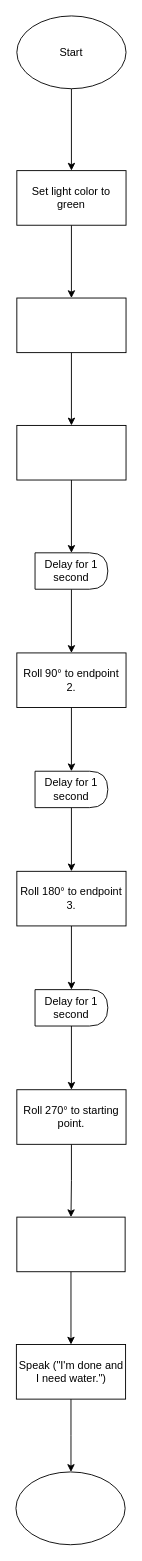
The diagram is 142 pixels wide and 1561 high, and some of its shapes have lost their labels. The shapes that lost their labels are listed below. From the top down, each one's box as (x1, y1, x2, y2) in pixels, then its label:
(16, 297, 126, 353): Speak ("Ready set go")
(16, 425, 126, 480): Roll 0° to endpoint 1.
(16, 1216, 125, 1272): Set light color to red
(15, 1471, 125, 1545): End
